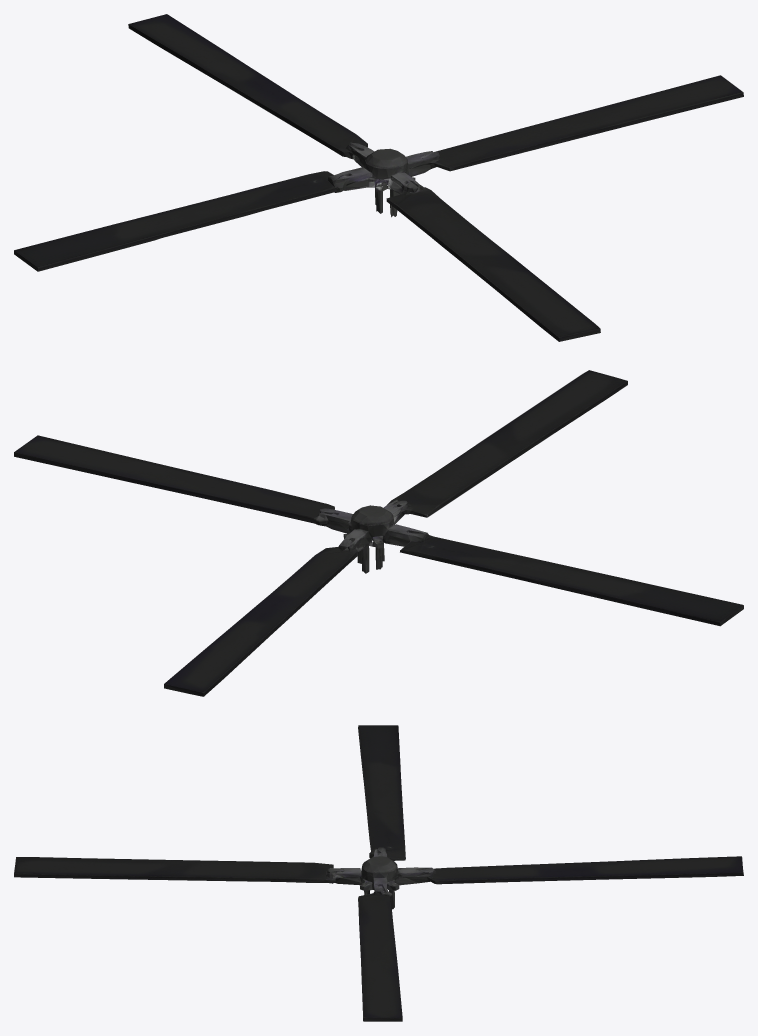
The model's file is heli_rotor.obj.
The picture shows the model from 3 angles, top to bottom: view 1: azimuth 30°, elevation 25°; view 2: azimuth 150°, elevation 25°; view 3: azimuth 270°, elevation 25°; orthographic projection. The views are drawn at different scales.
Bounding box in the file's own units: 1.56 × 0.118 × 1.64.
1 material, 1 textured.
